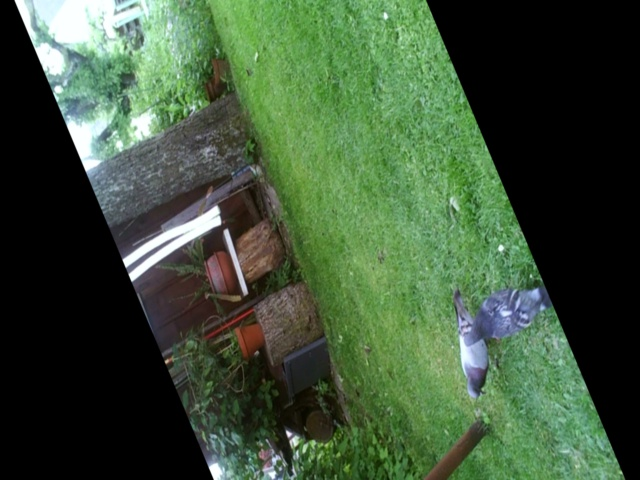Pigeon: (462, 269, 557, 346), (446, 288, 494, 398)
